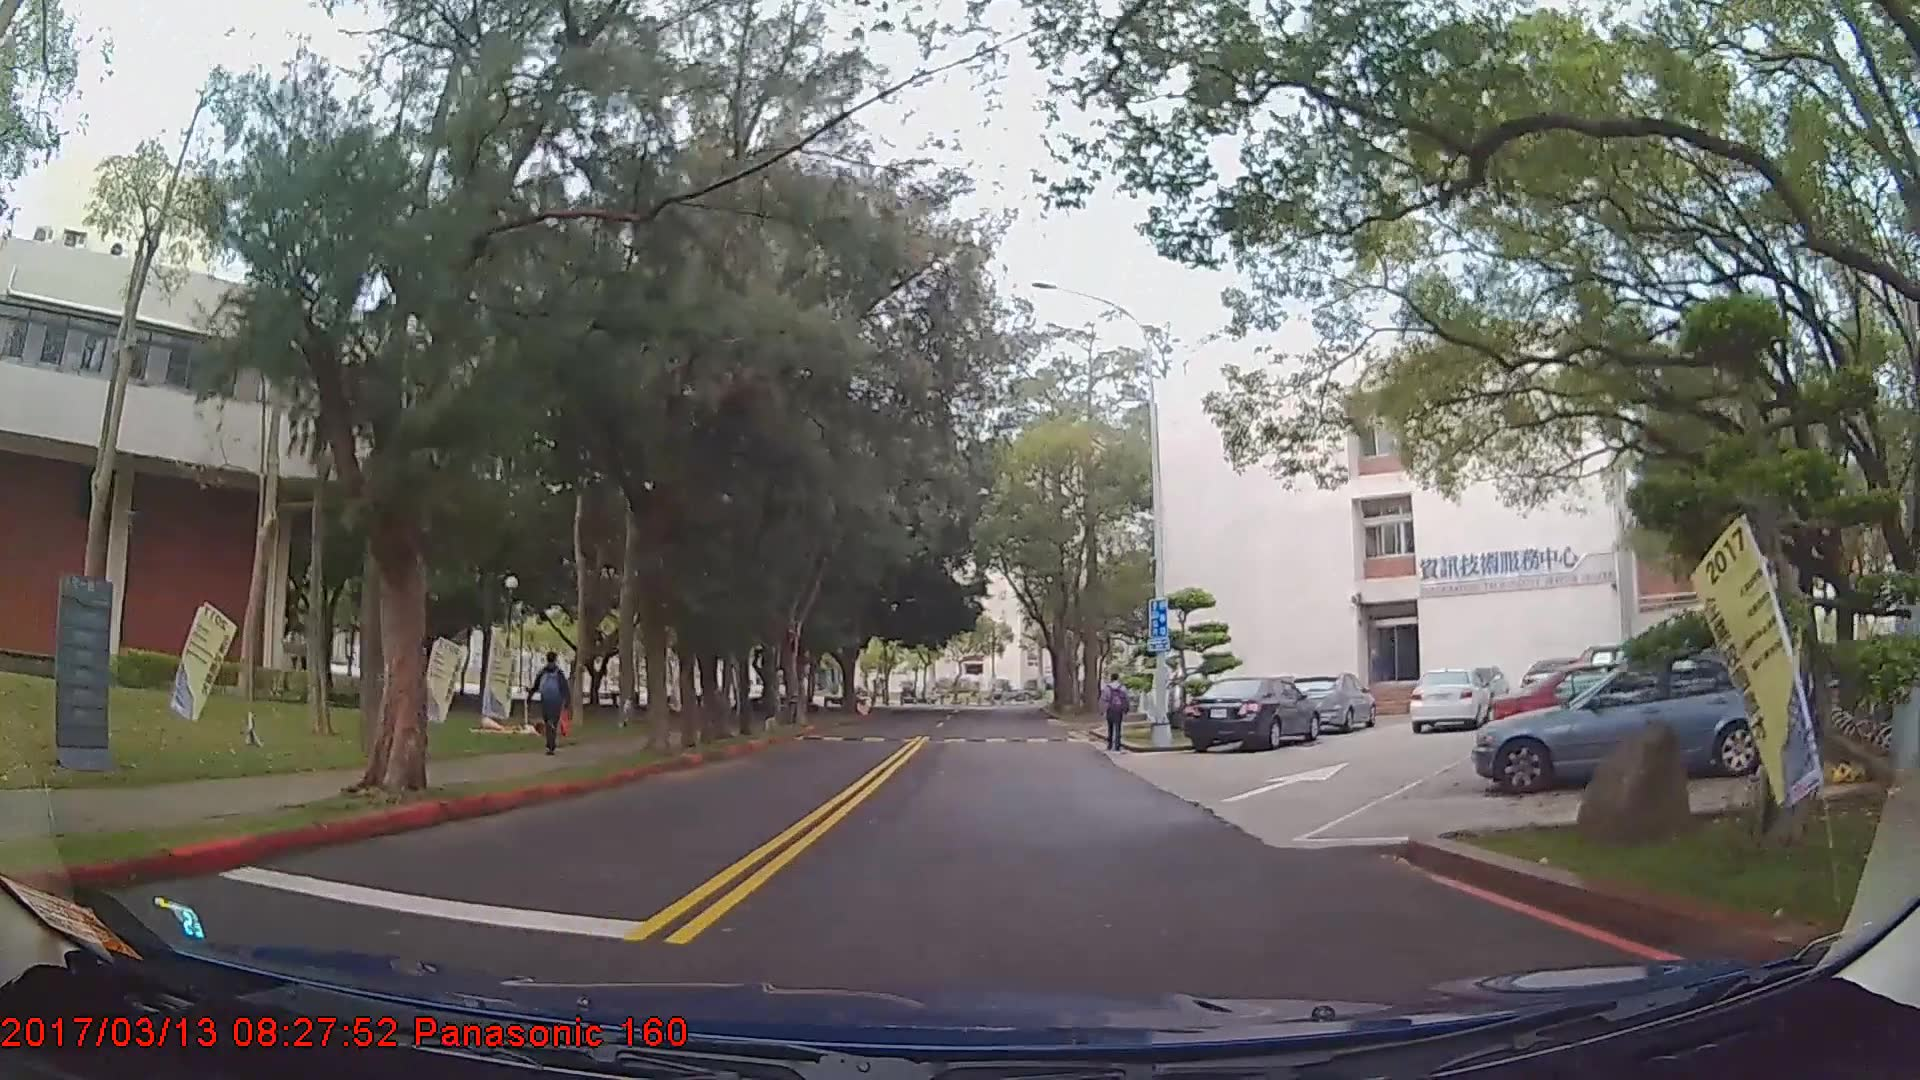pedestrian: (532, 652, 570, 759), (1101, 673, 1130, 754)
vehicle: (1473, 652, 1805, 796), (1183, 677, 1322, 757), (1287, 672, 1378, 734), (1404, 668, 1488, 735)
